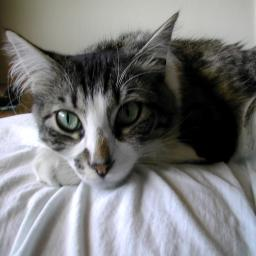catnose: (91, 164, 113, 176)
